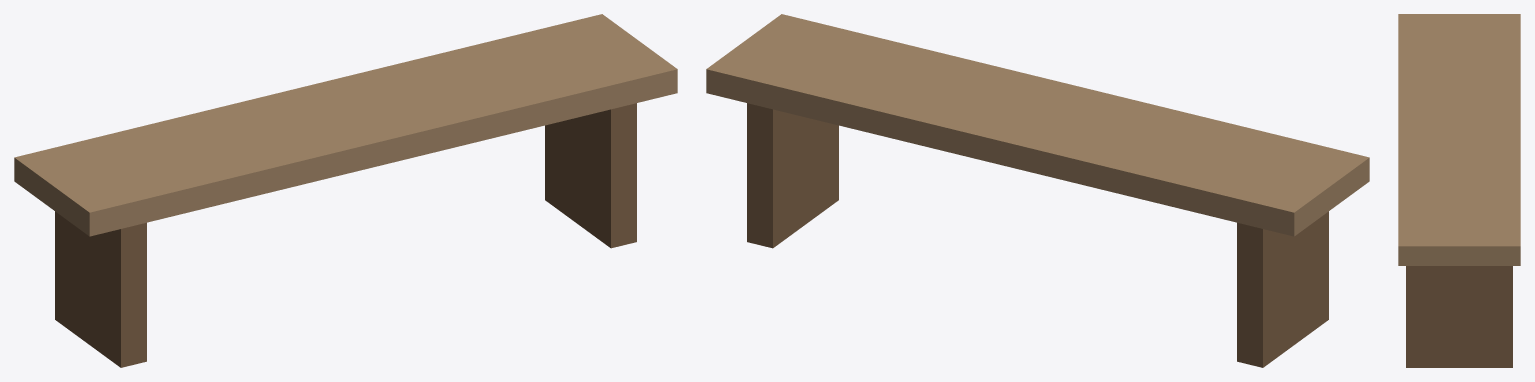
Rendered from Bench.fbx.
The picture shows the model from 3 angles, left to right: view 1: azimuth 30°, elevation 25°; view 2: azimuth 150°, elevation 25°; view 3: azimuth 270°, elevation 25°; orthographic projection. The views are drawn at different scales.
Parts seen in each view (by area): view 1: Bench; view 2: Bench; view 3: Bench.
Part boxes in pixels (left/top/right/bottom): Bench: left=14, top=14, right=677, bottom=367; Bench: left=706, top=14, right=1369, bottom=367; Bench: left=1398, top=14, right=1520, bottom=367.
Bounding box in the file's own units: 1.8 × 0.4 × 0.49.
